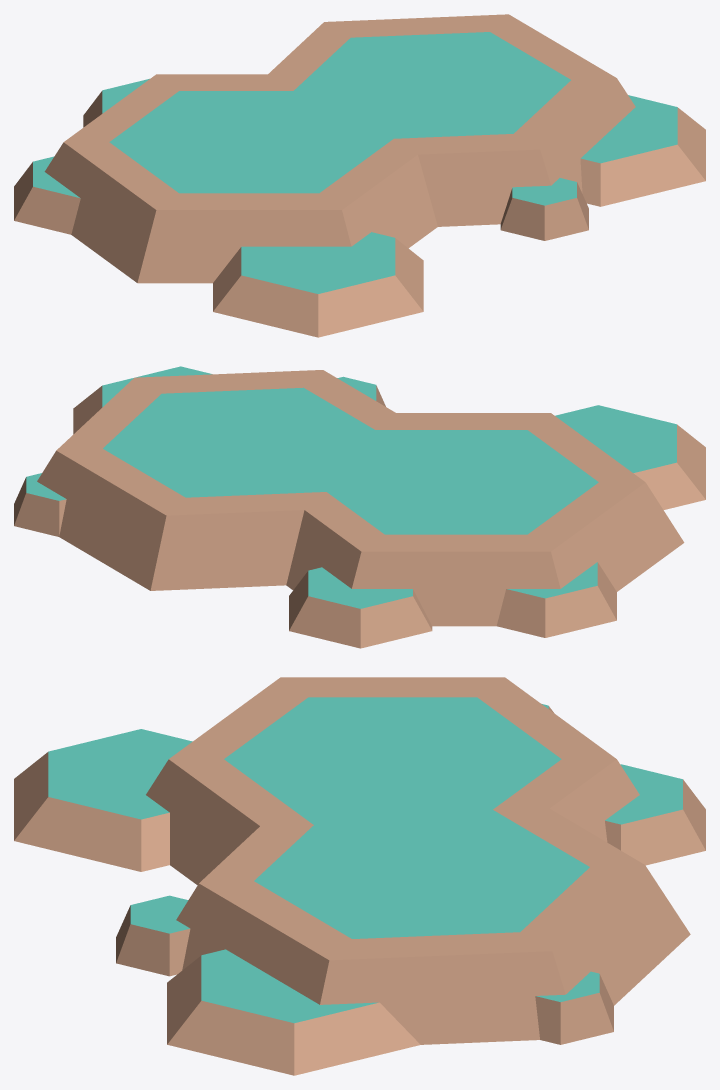
File: platform_grass.glb
3 views of the same model, one above another, from view 1: azimuth 30°, elevation 25°; view 2: azimuth 150°, elevation 25°; view 3: azimuth 270°, elevation 25° (orthographic). The views are drawn at different scales.
Parts seen in each view (by area): view 1: platform_grass; view 2: platform_grass; view 3: platform_grass.
Boxes of the visible parts, left/top/right/bottom form: platform_grass: left=14, top=14, right=705, bottom=337; platform_grass: left=14, top=366, right=705, bottom=648; platform_grass: left=14, top=677, right=705, bottom=1075.
Size of the model in its own units: 0.8932 by 0.0825 by 0.7239.
